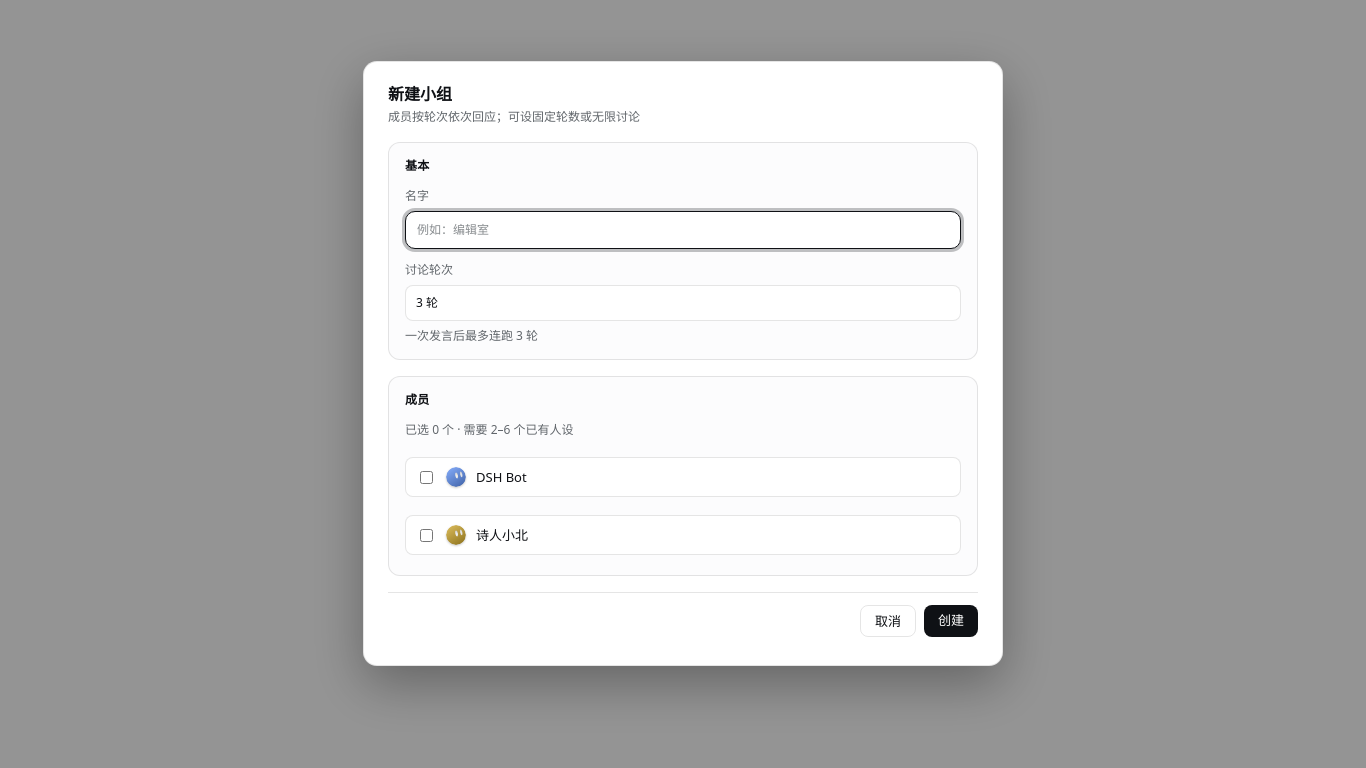
GroupForm › blocks submit with fewer than two members
This screenshot has width=1366, height=768.
Type "编辑室" into the field with test id "group-form-name".
click(683, 230); type("编辑室")  # box left=405, top=211, right=961, bottom=249
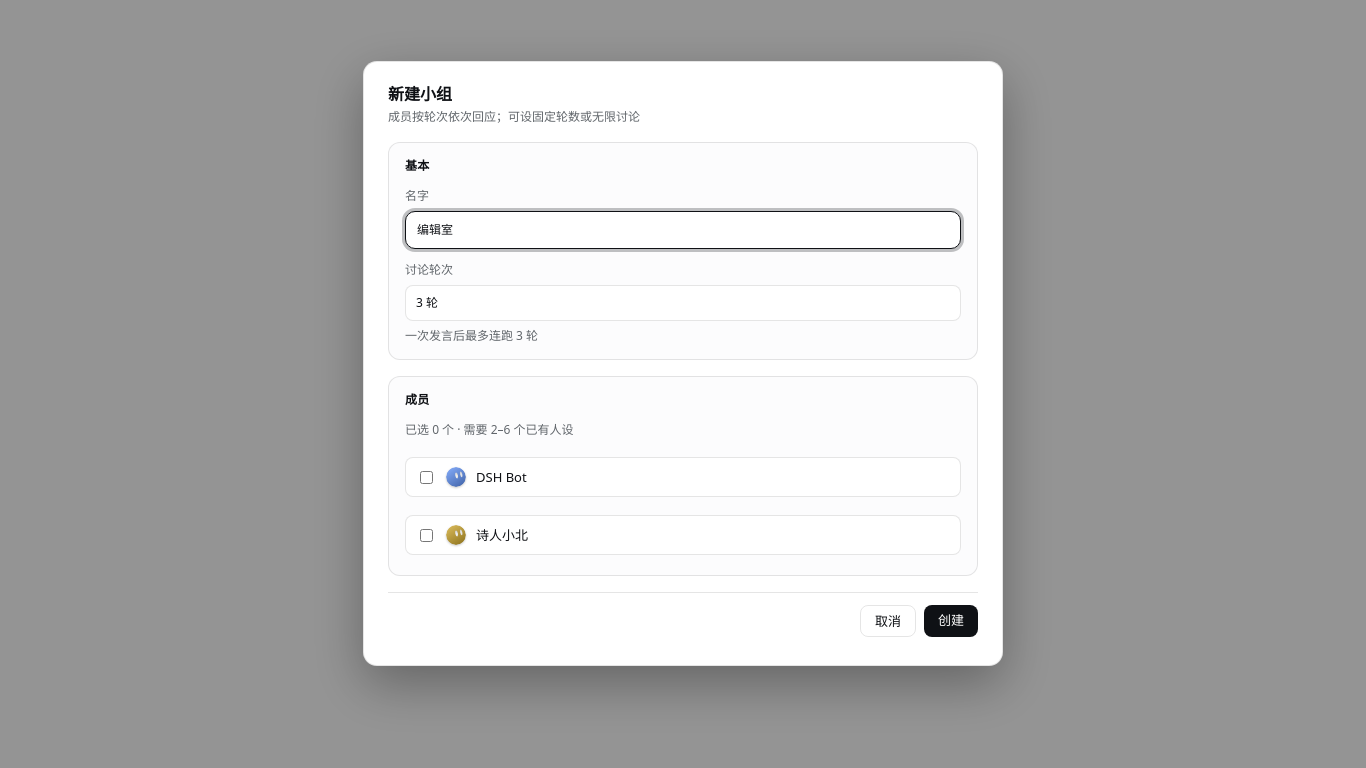
Click the checkbox with test id "group-form-member-dsh-bot".
click(426, 477)  # box left=420, top=471, right=433, bottom=484
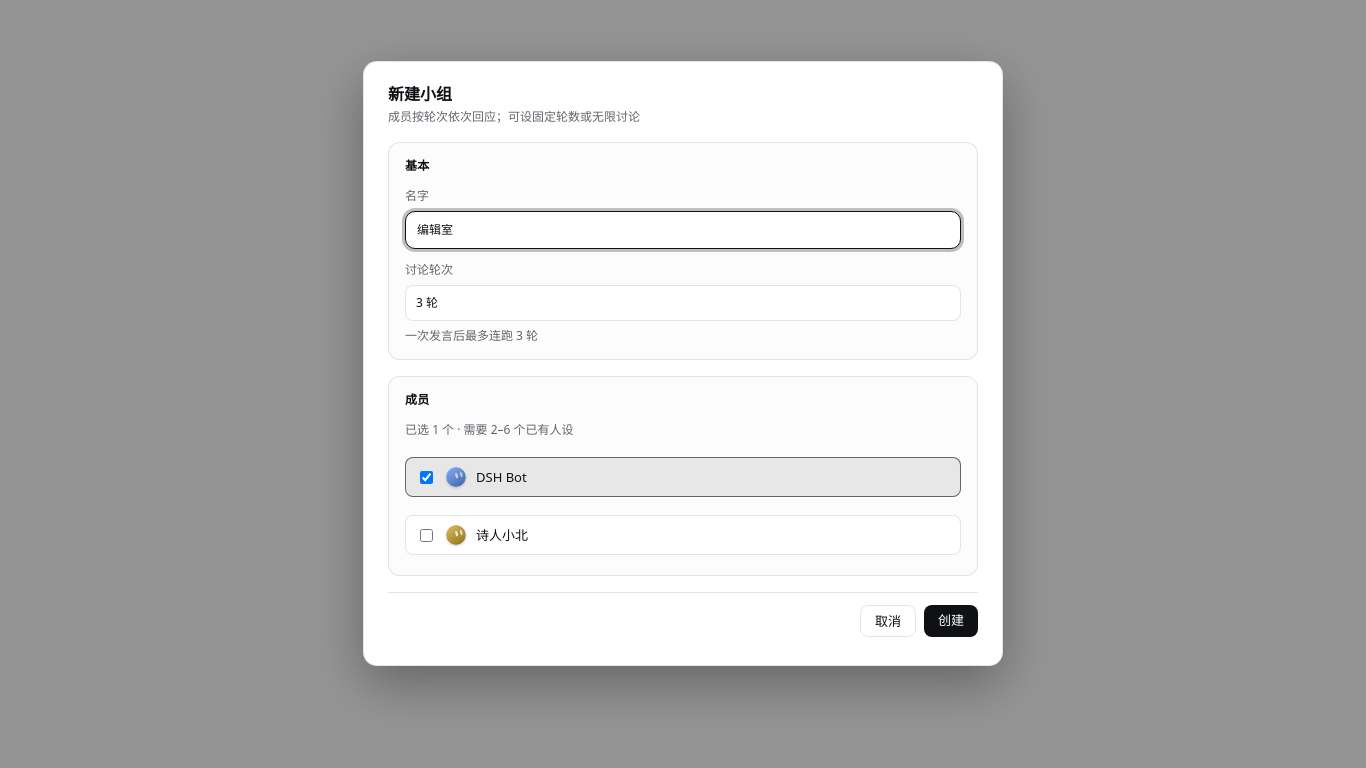
Click the button with test id "group-form-submit".
click(951, 621)  # box left=924, top=605, right=978, bottom=637
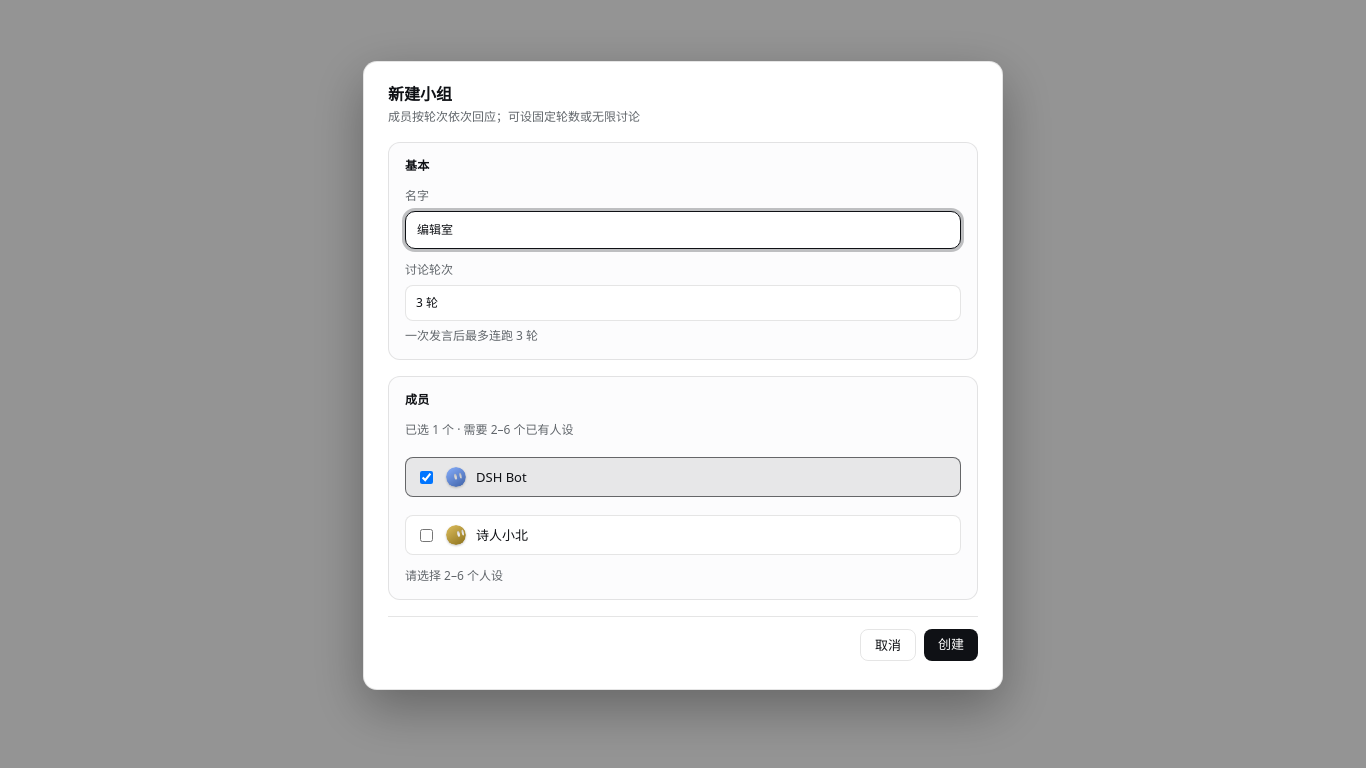
Expected: the text with test id "group-form-members-error" shows "2", left=405, top=567, right=503, bottom=584
